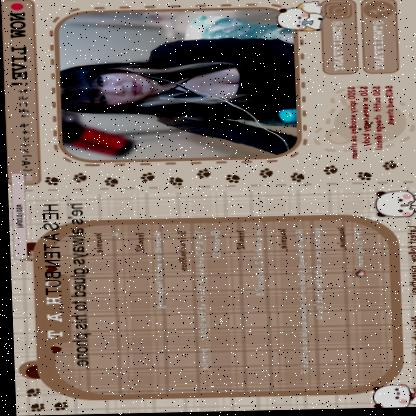streamer: (57, 37, 295, 160)
